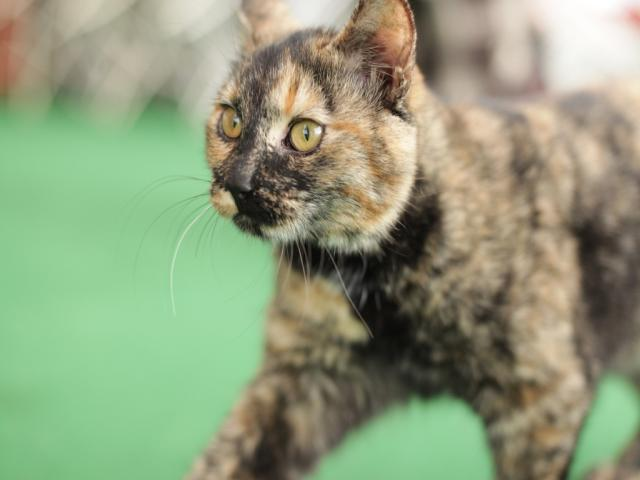Cat: (122, 0, 640, 480)
